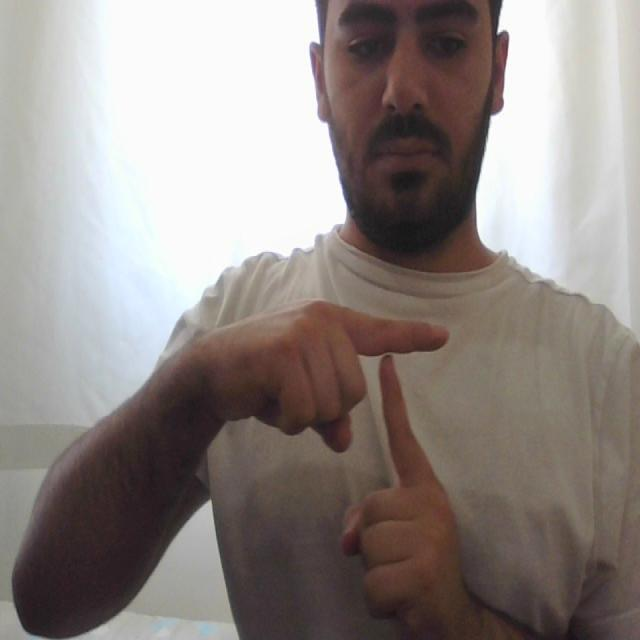Tesekkurler: (341, 293, 455, 513)
